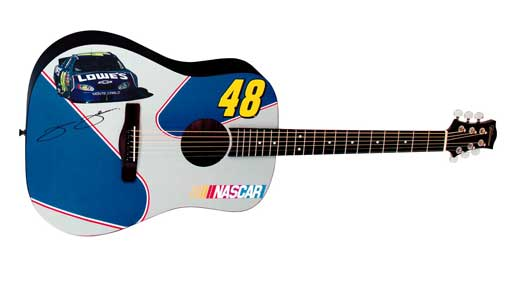guitar: (23, 29, 500, 239)
